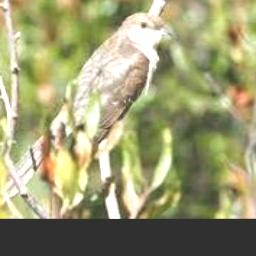Cuckoo: (0, 12, 175, 206)
